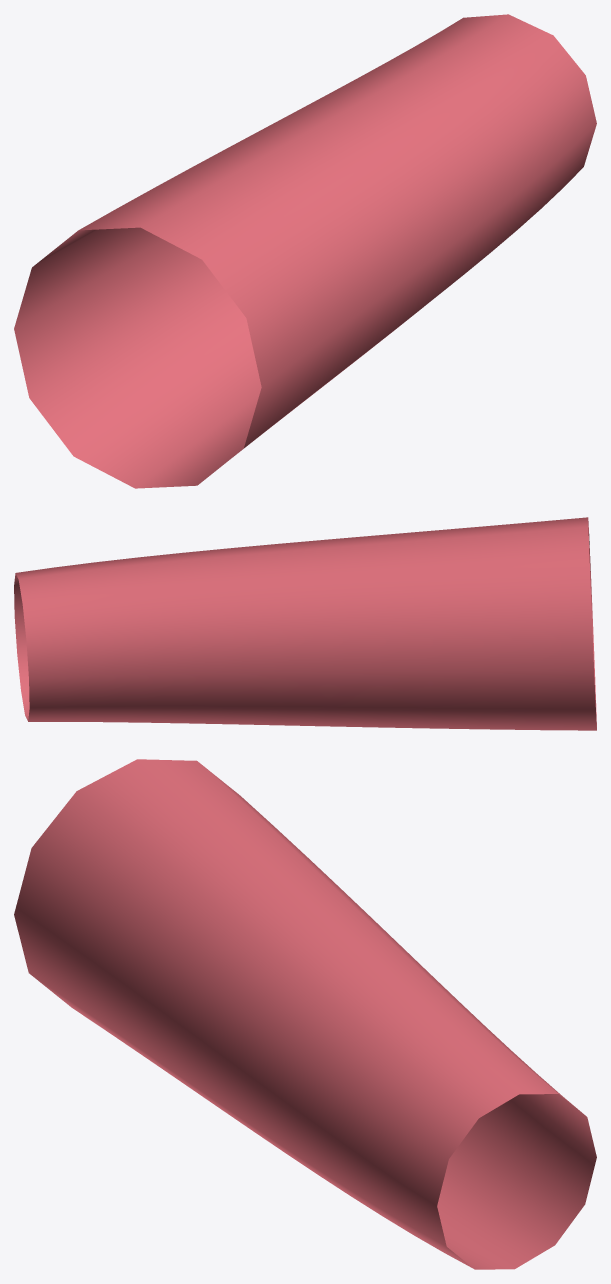
3 views of the same model, one above another, from view 1: azimuth 30°, elevation 25°; view 2: azimuth 150°, elevation 25°; view 3: azimuth 270°, elevation 25° (orthographic). The views are drawn at different scales.
Visible parts, largest first — view 1: ZA_a1d6d9842d94d004; view 2: ZA_a1d6d9842d94d004; view 3: ZA_a1d6d9842d94d004.
Boxes of the visible parts, box(x1,y1,x2,y2) form: ZA_a1d6d9842d94d004: box(14, 14, 596, 488); ZA_a1d6d9842d94d004: box(14, 517, 596, 730); ZA_a1d6d9842d94d004: box(14, 759, 596, 1269).
Bounding box in the file's own units: 0.0275 × 0.00999 × 0.0208.
